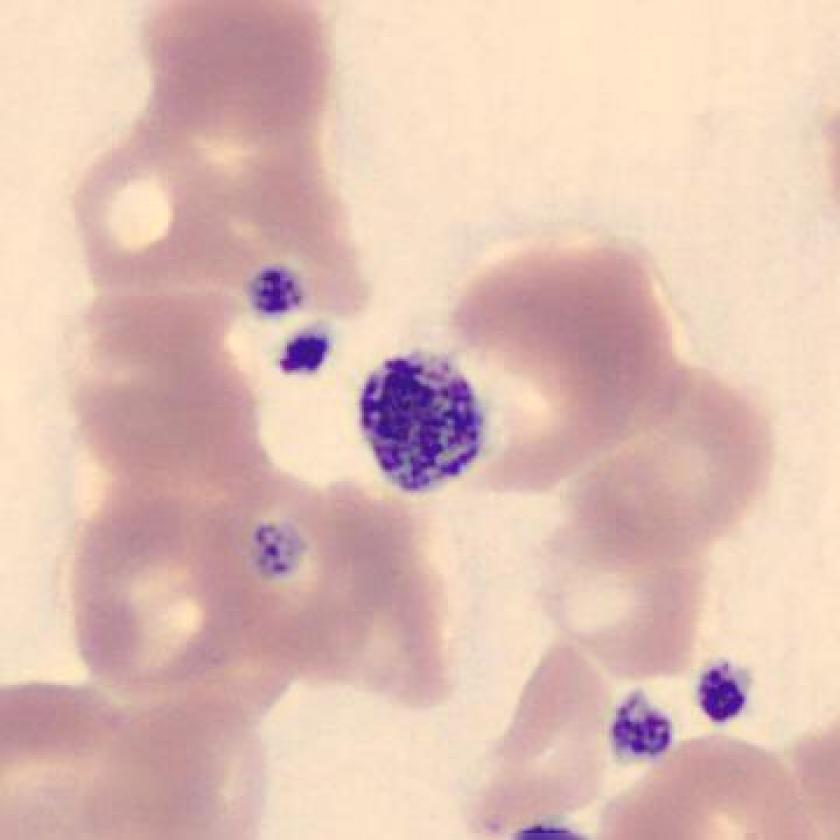platelets: (351, 339, 500, 501), (596, 682, 680, 772), (682, 656, 764, 732), (267, 320, 349, 383), (242, 253, 312, 325)
